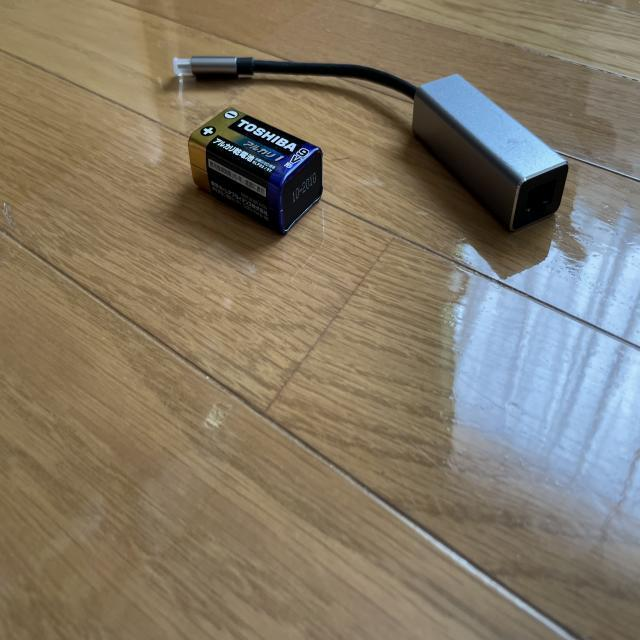9V: (189, 108, 323, 234)
